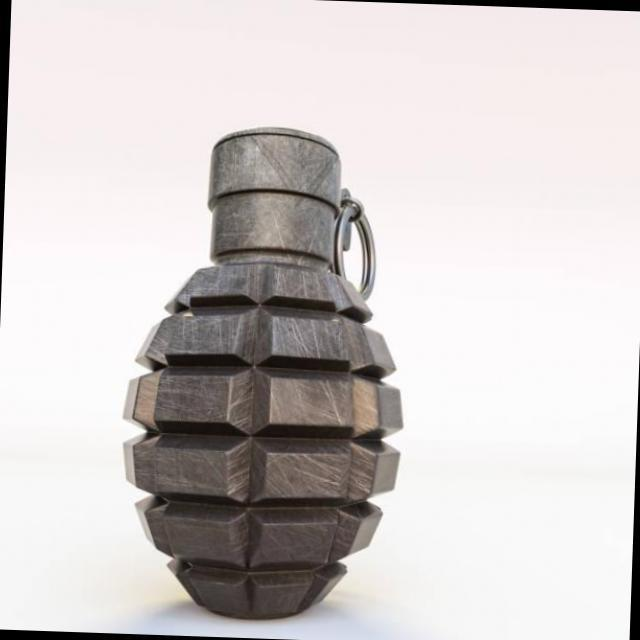grenade: (115, 124, 414, 628)
